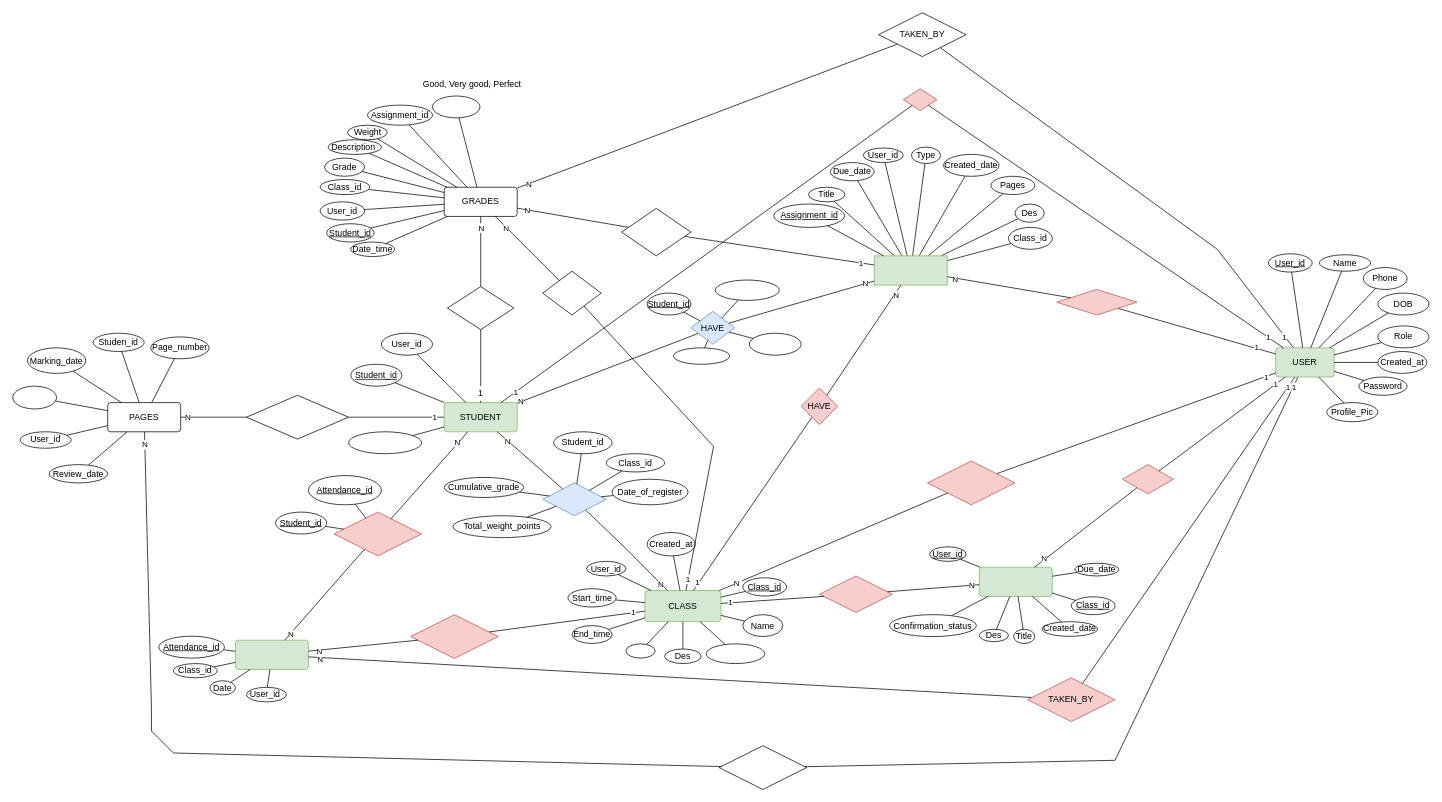
Image size: 1442x802. Some labels were removed from this diagram. The box of each missing label's shape, as (x1, y1, x2, y2) in pixels:
ASSIGNMENTS: (873, 255, 947, 285)
Assignmetn_id: (715, 279, 779, 300)
ATTENDANCE: (235, 639, 308, 669)
ATTENDED_IN: (333, 511, 422, 556)
Card: (432, 95, 480, 118)
CREATED_BY: (1056, 289, 1137, 315)
Creates: (927, 460, 1015, 505)
Days: (625, 643, 655, 658)
EVENTS: (979, 566, 1052, 596)
IS-A: (903, 88, 937, 111)
is_complete: (673, 347, 730, 364)
is_read: (749, 333, 801, 355)
Location: (706, 643, 765, 664)
MADE_FOR: (819, 575, 892, 612)
MAKE: (1122, 464, 1173, 494)
MARKED_BY: (718, 745, 807, 789)
MEMORIZED_BY: (246, 395, 349, 439)
Memorized_juz: (348, 431, 422, 454)
Page_id: (12, 385, 57, 409)
STUDY_IN: (542, 482, 606, 516)
TAKEN_FOR: (447, 286, 514, 330)
TAKEN_IN: (542, 270, 601, 315)
TAKEN_ON: (621, 208, 691, 256)
TAKERN_IN: (410, 614, 498, 658)
